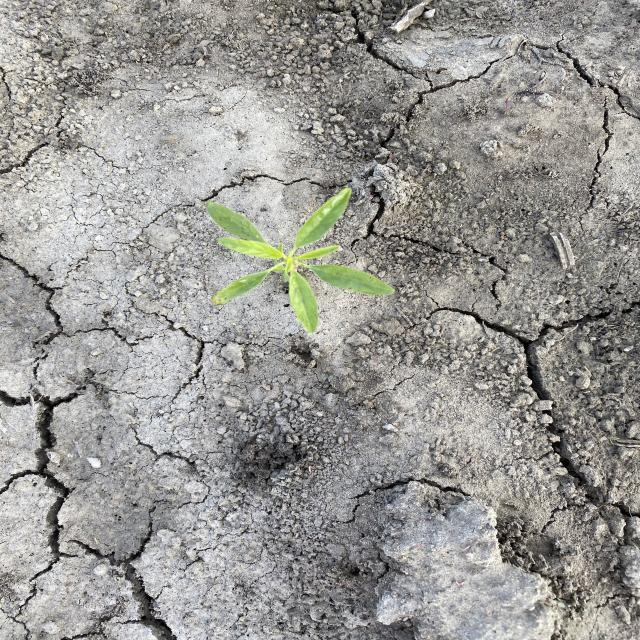Waterhemp: (204, 185, 398, 335)
